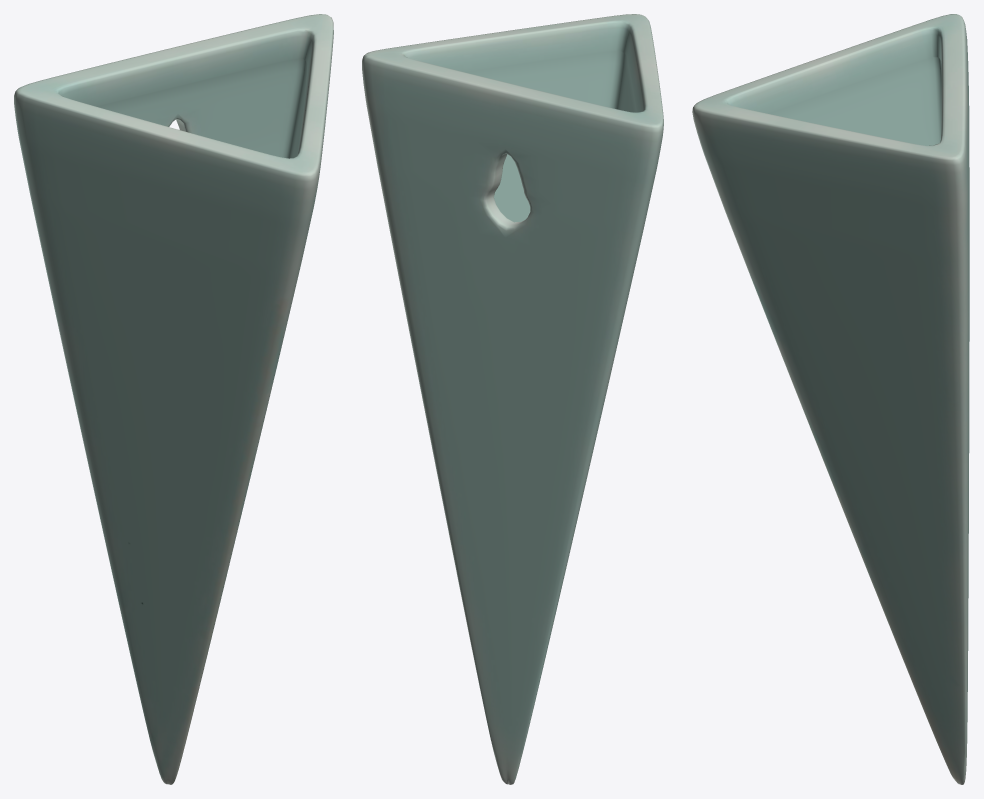
Rendered from planter_B075HX9TCW.glb.
3 renders of one model, left to right at view 1: azimuth 30°, elevation 25°; view 2: azimuth 150°, elevation 25°; view 3: azimuth 270°, elevation 25°, orthographic. The views are drawn at different scales.
Parts seen in each view (by area): view 1: RootNode; view 2: RootNode; view 3: RootNode.
Part boxes in pixels (<box>): RootNode: <box>14,14,333,784</box>; RootNode: <box>362,14,663,784</box>; RootNode: <box>692,14,969,784</box>.
Size of the model in its own units: 0.08 by 0.1779 by 0.064.
1 material, 1 textured.
